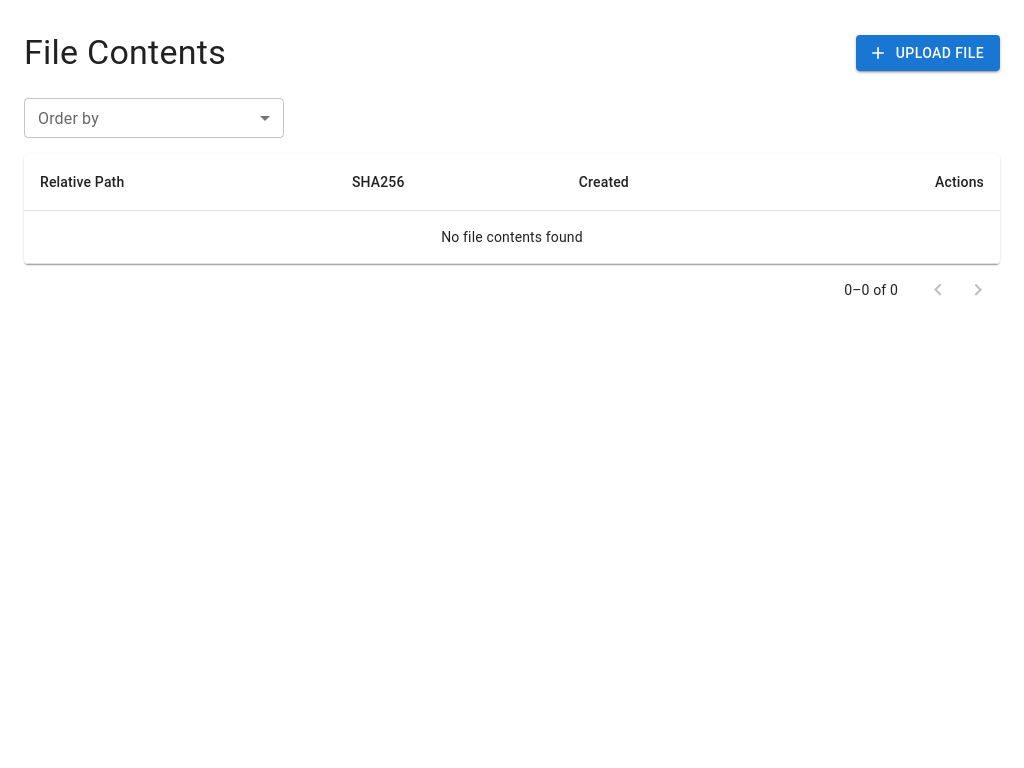
FileContentFiles › validates upload requires relative_path
expect the heading "File Contents" is shown: met, box [24,32,226,74]
Click the button "Upload File".
click(928, 53)  # box [856,35,1000,71]
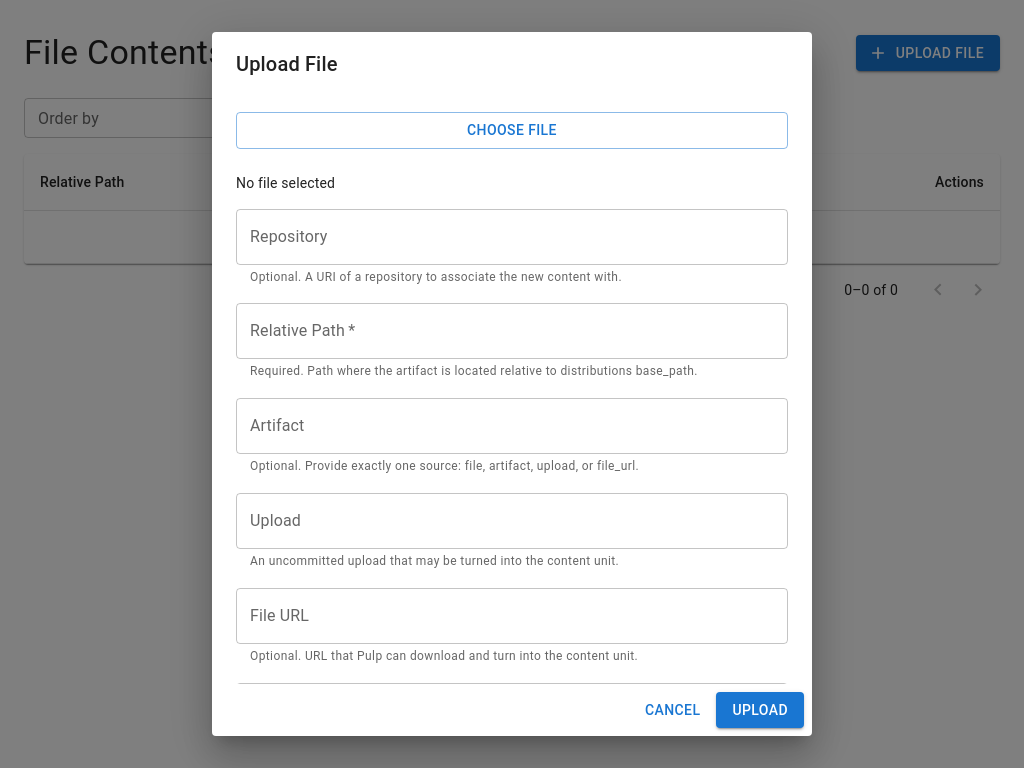
Click the button "Upload".
click(760, 710)  # box [716,692,804,728]
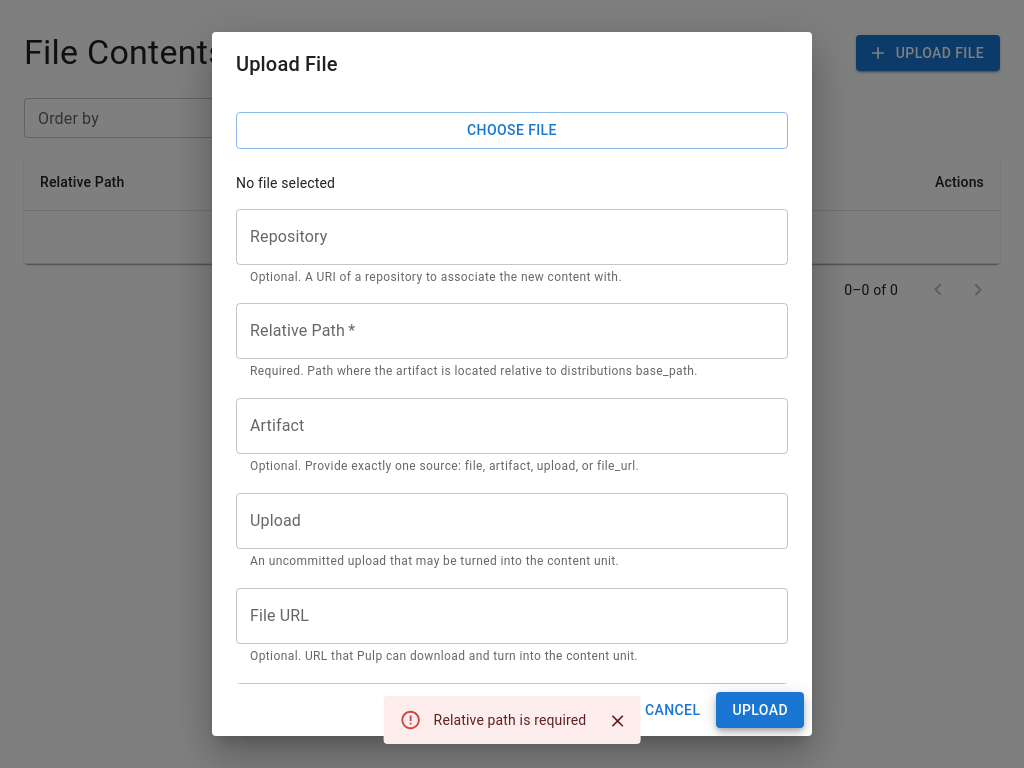
expect the text "Relative path is required" is shown: met, box [434,712,586,728]
